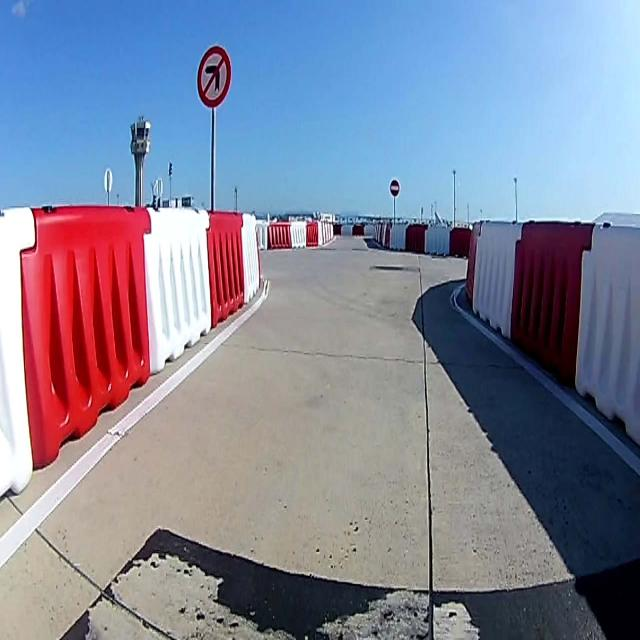soladonulmez: (198, 47, 231, 105)
